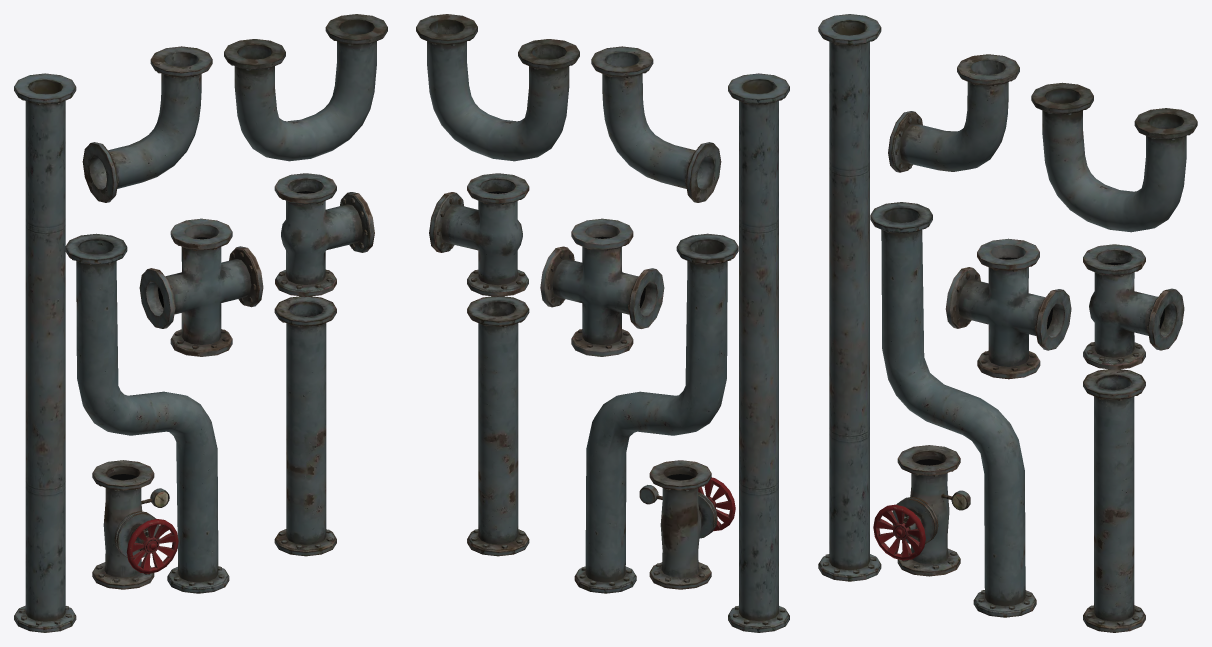
File: modular_industrial_pipes_01.glb
3 views of the same model, side by side, from view 1: azimuth 30°, elevation 25°; view 2: azimuth 150°, elevation 25°; view 3: azimuth 330°, elevation 25° (orthographic).
Parts seen in each view (by area): view 1: modular_industrial_pipes_01_pipe02, modular_industrial_pipes_01_pipe03, modular_industrial_pipes_01_pipe05, modular_industrial_pipes_01_pipe01, modular_industrial_pipes_01_pipe07, modular_industrial_pipes_01_pipe04, modular_industrial_pipes_01_pipe06, modular_industrial_pipes_01_pipe08; view 2: modular_industrial_pipes_01_pipe02, modular_industrial_pipes_01_pipe03, modular_industrial_pipes_01_pipe05, modular_industrial_pipes_01_pipe01, modular_industrial_pipes_01_pipe07, modular_industrial_pipes_01_pipe04, modular_industrial_pipes_01_pipe06, modular_industrial_pipes_01_pipe08; view 3: modular_industrial_pipes_01_pipe02, modular_industrial_pipes_01_pipe03, modular_industrial_pipes_01_pipe05, modular_industrial_pipes_01_pipe01, modular_industrial_pipes_01_pipe07, modular_industrial_pipes_01_pipe06, modular_industrial_pipes_01_pipe04, modular_industrial_pipes_01_pipe08.
Part boxes in pixels (x1,y1,x2,y2): modular_industrial_pipes_01_pipe02: (14,73,76,632); modular_industrial_pipes_01_pipe03: (65,233,229,593); modular_industrial_pipes_01_pipe05: (224,14,387,161); modular_industrial_pipes_01_pipe01: (274,296,336,556); modular_industrial_pipes_01_pipe07: (139,218,263,356); modular_industrial_pipes_01_pipe04: (82,46,212,202); modular_industrial_pipes_01_pipe06: (274,173,374,296); modular_industrial_pipes_01_pipe08: (92,460,178,589); modular_industrial_pipes_01_pipe02: (728,73,789,632); modular_industrial_pipes_01_pipe03: (574,233,738,593); modular_industrial_pipes_01_pipe05: (416,14,579,161); modular_industrial_pipes_01_pipe01: (467,296,529,556); modular_industrial_pipes_01_pipe07: (540,218,664,356); modular_industrial_pipes_01_pipe04: (591,46,721,202); modular_industrial_pipes_01_pipe06: (429,173,529,296); modular_industrial_pipes_01_pipe08: (639,460,735,589); modular_industrial_pipes_01_pipe02: (818,14,881,581); modular_industrial_pipes_01_pipe03: (870,202,1036,617); modular_industrial_pipes_01_pipe05: (1031,82,1197,232); modular_industrial_pipes_01_pipe01: (1083,369,1145,632); modular_industrial_pipes_01_pipe07: (945,238,1071,379); modular_industrial_pipes_01_pipe06: (1083,244,1184,369); modular_industrial_pipes_01_pipe04: (888,54,1019,172); modular_industrial_pipes_01_pipe08: (873,445,970,576).
Size of the model in its own units: 1.4 by 1.95 by 0.3076.
2 materials, 2 textured.
